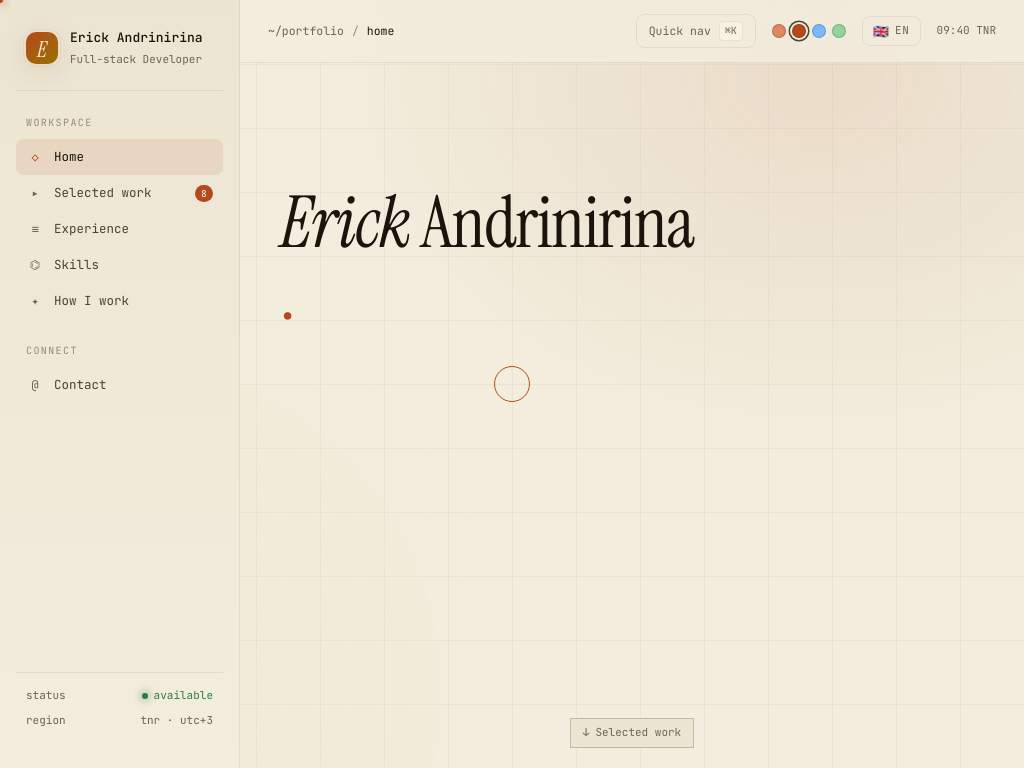
Test case: Command palette (⌘K) › runs a navigation command and closes
Click the button with test id "tb-cmdk-btn" at (696, 31), box [636,14,756,48]
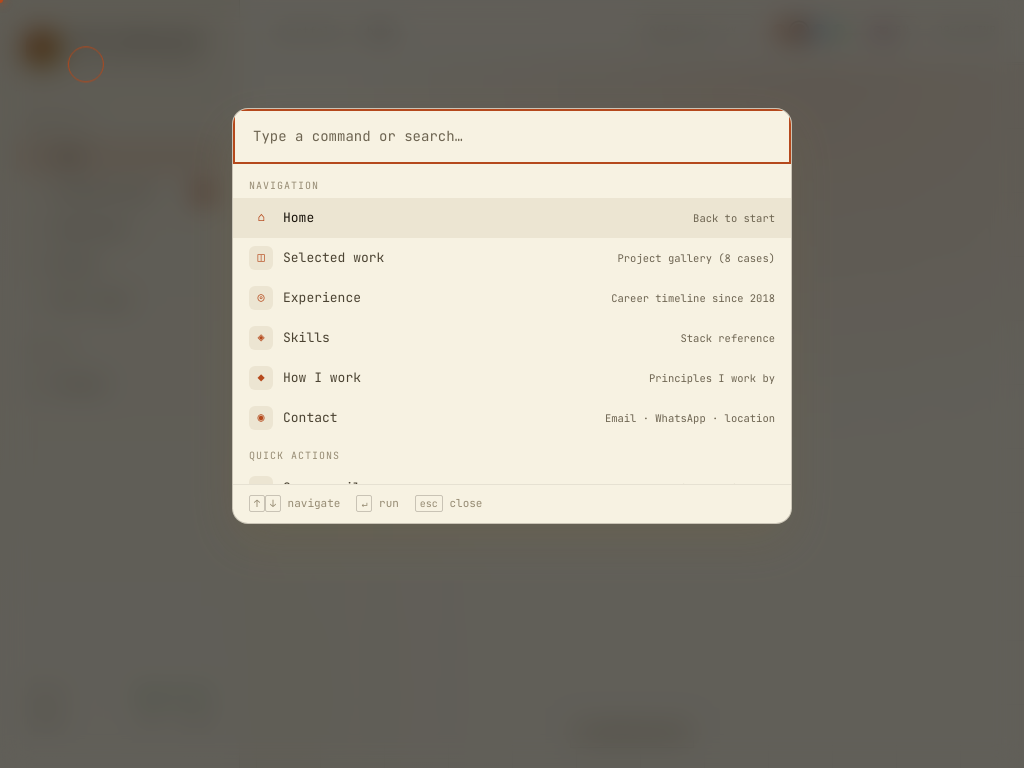
// Click the "work" navigation option.
Click the text "Selected work" at (334, 258), box [283,248,384,268]
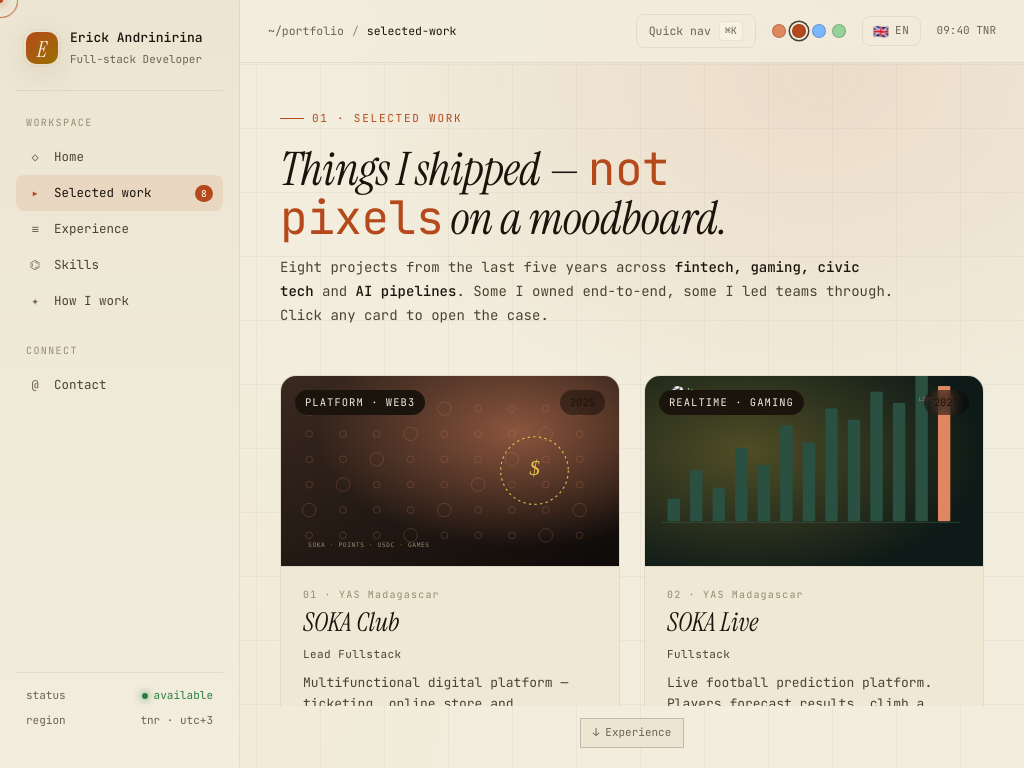
Result: the dialog is gone
